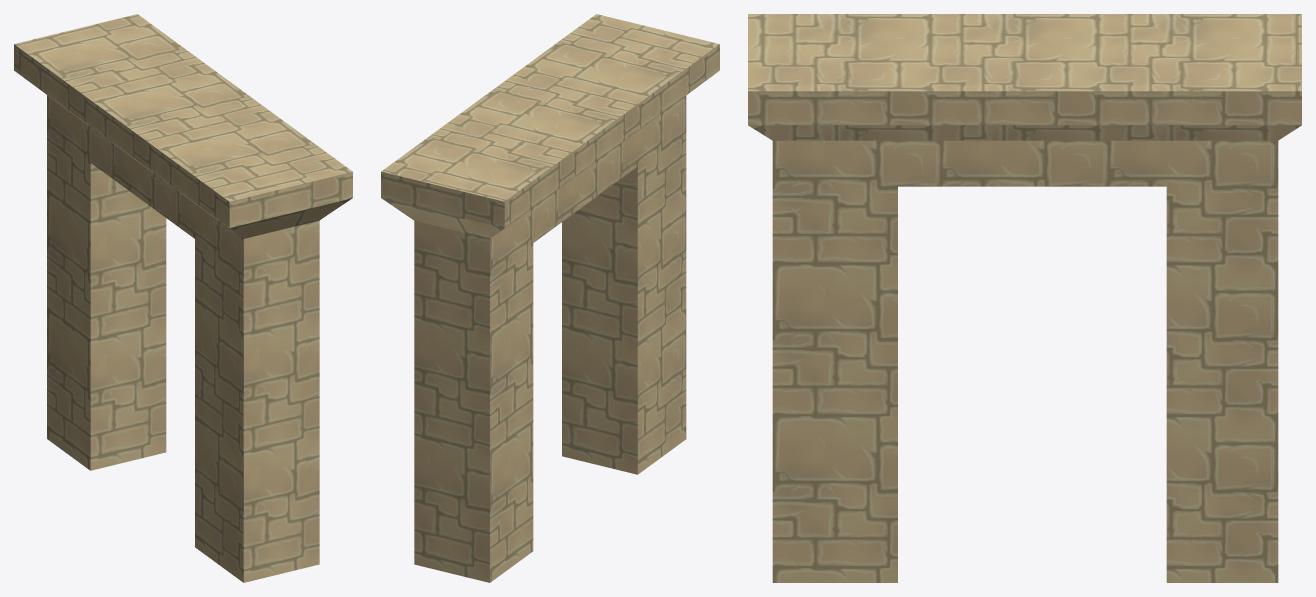
The model's file is egyptianArch.FBX.
The picture shows the model from 3 angles, left to right: view 1: azimuth 30°, elevation 25°; view 2: azimuth 150°, elevation 25°; view 3: azimuth 270°, elevation 25°; orthographic projection. The views are drawn at different scales.
Parts seen in each view (by area): view 1: egyptianArch; view 2: egyptianArch; view 3: egyptianArch.
Part boxes in pixels (<box>): egyptianArch: <box>14,14,352,582</box>; egyptianArch: <box>381,14,719,582</box>; egyptianArch: <box>748,14,1301,582</box>.
Size of the model in its own units: 16.41 by 49.62 by 50.06.
Materials: 1 (1 with a texture image).
